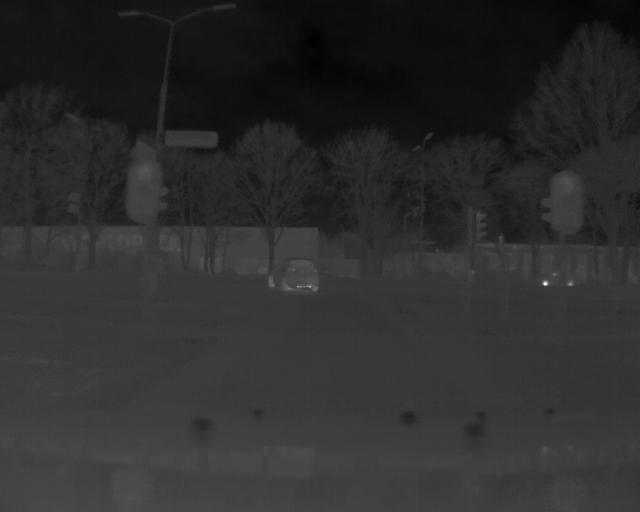car: (266, 255, 320, 293)
